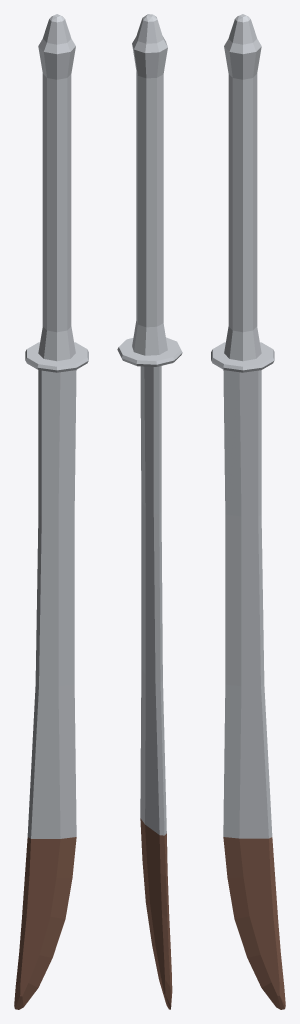
Rendered from Sword_C.glb.
3 views of the same model, side by side, from view 1: azimuth 90°, elevation 25°; view 2: azimuth 210°, elevation 25°; view 3: azimuth 270°, elevation 25° (orthographic).
Parts seen in each view (by area): view 1: Sword_C; view 2: Sword_C; view 3: Sword_C.
Part boxes in pixels (bbox=[...]): Sword_C: bbox=[14, 14, 88, 1009]; Sword_C: bbox=[117, 14, 182, 1009]; Sword_C: bbox=[211, 14, 285, 1009].
Size of the model in its own units: 0.0608 by 1 by 0.0681.
